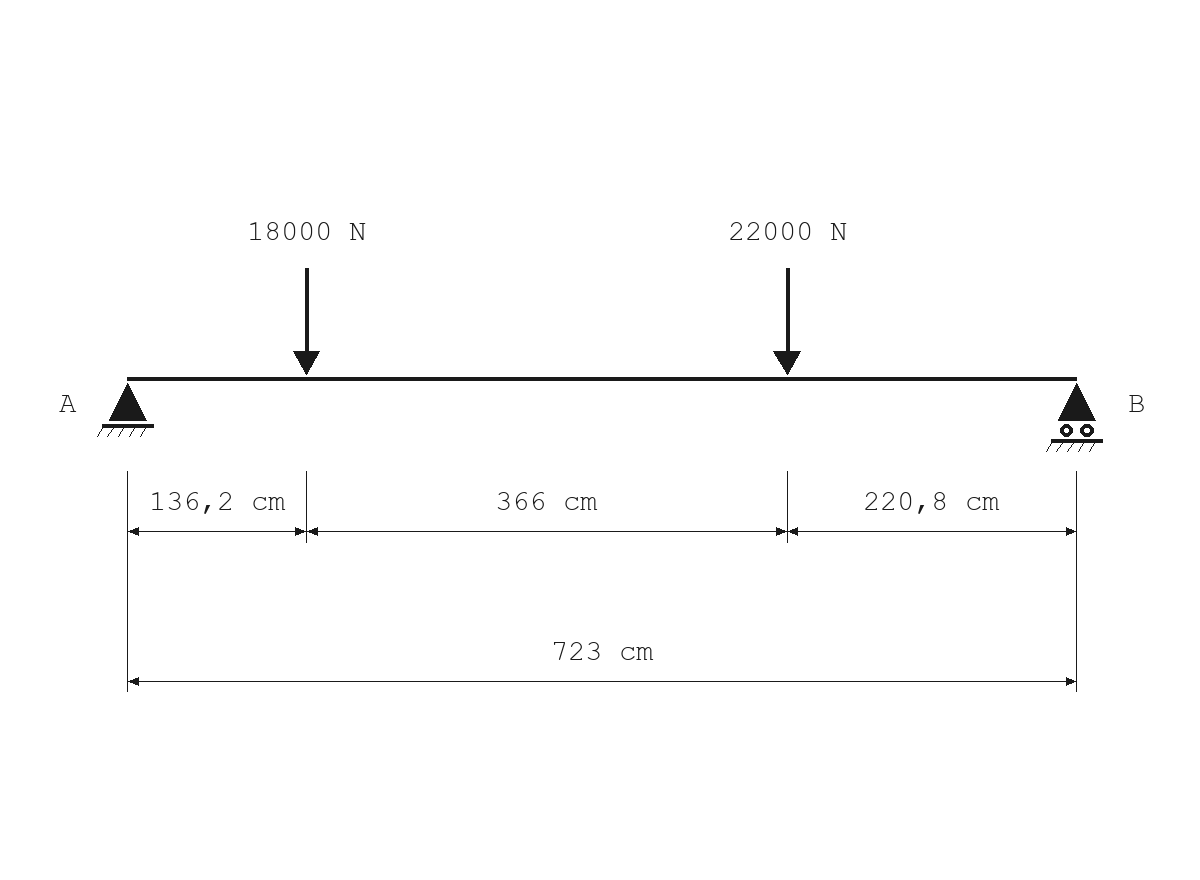pin_support: (97, 383, 154, 437)
point_load: (773, 268, 801, 375), (293, 268, 320, 375)
roller_support: (1046, 383, 1103, 452)
